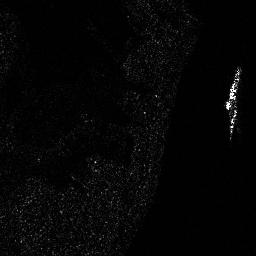ship: (225, 67, 240, 110)
